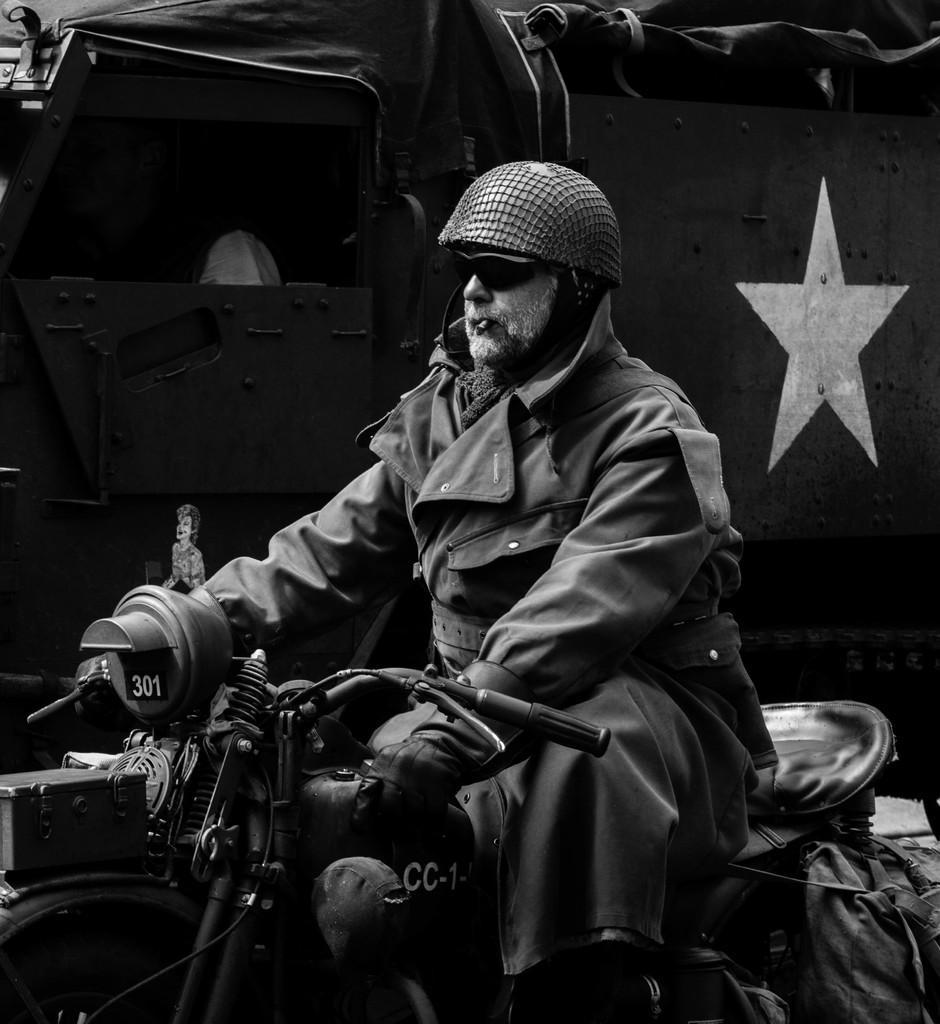helmet: (436, 157, 626, 372)
